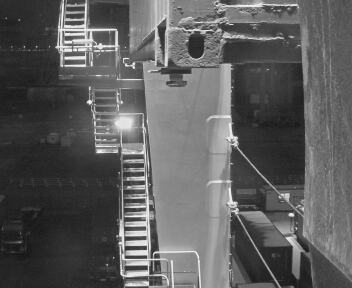twist_lock_1: (152, 63, 198, 96)
